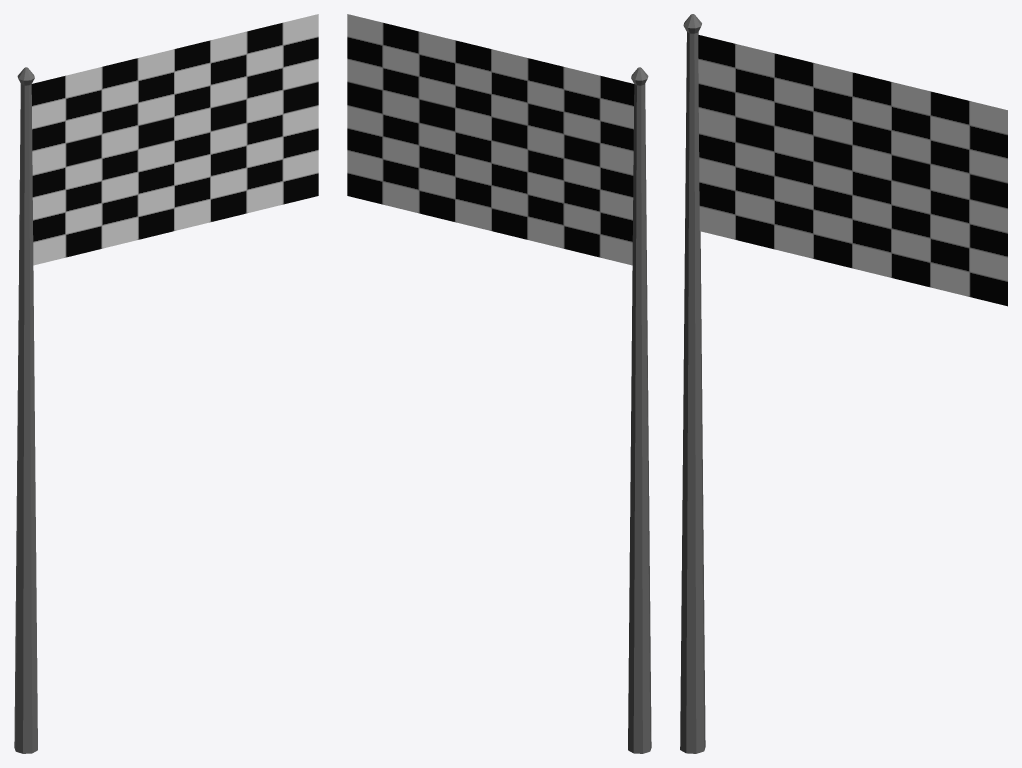
Rendered from BandeiraQuadriculada.fbx.
3 renders of one model, left to right at view 1: azimuth 30°, elevation 25°; view 2: azimuth 150°, elevation 25°; view 3: azimuth 330°, elevation 25°, orthographic. The views are drawn at different scales.
Parts seen in each view (by area): view 1: Bandiera, mastro; view 2: Bandiera, mastro; view 3: Bandiera, mastro.
Part boxes in pixels (left/top/right/bottom): Bandiera: left=31, top=14, right=318, bottom=265; mastro: left=14, top=67, right=37, bottom=753; Bandiera: left=347, top=14, right=634, bottom=265; mastro: left=628, top=67, right=651, bottom=753; Bandiera: left=698, top=35, right=1007, bottom=306; mastro: left=680, top=14, right=705, bottom=753.
Size of the model in its own units: 93.28 by 200 by 6.52.
